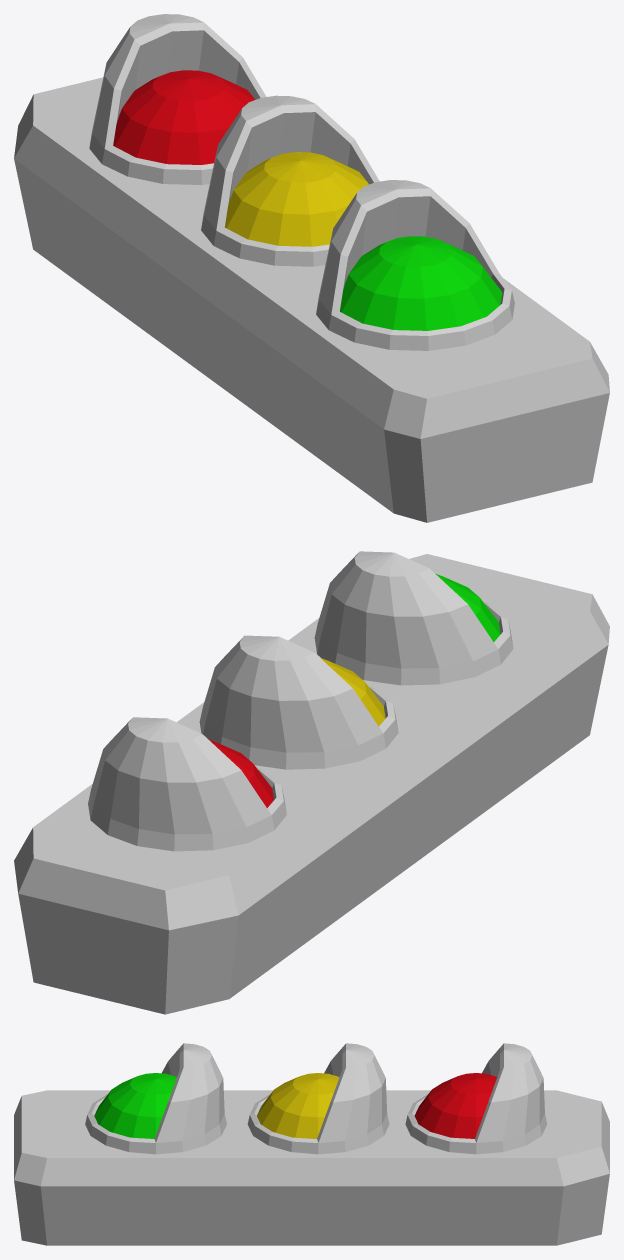
File: lamp.fbx
The picture shows the model from 3 angles, top to bottom: view 1: azimuth 30°, elevation 25°; view 2: azimuth 150°, elevation 25°; view 3: azimuth 270°, elevation 25°; orthographic projection. The views are drawn at different scales.
Parts seen in each view (by area): view 1: Cube; view 2: Cube; view 3: Cube.
Boxes of the visible parts, <box> form: Cube: <box>14,14,609,522</box>; Cube: <box>14,551,609,1014</box>; Cube: <box>14,1043,609,1245</box>.
Bounding box in the file's own units: 2.29 × 2.23 × 7.45.
